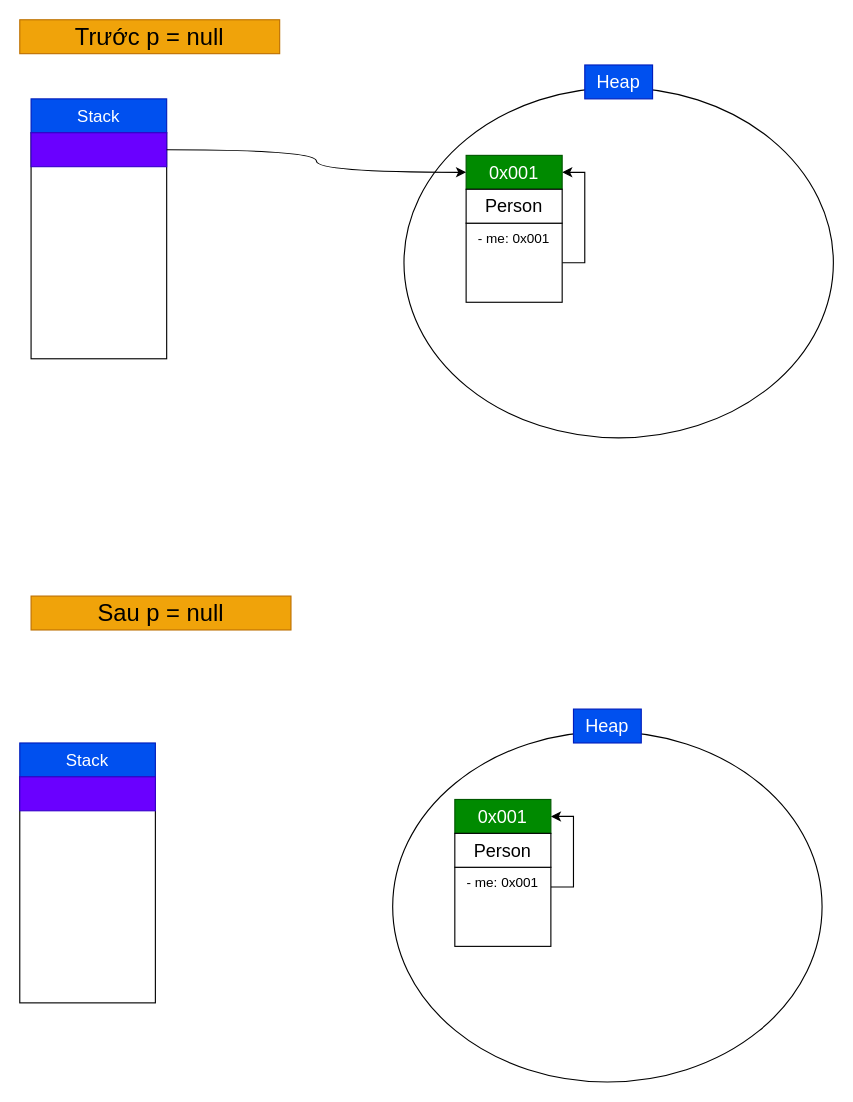
This 853x1102 diagram has some shape labels left out. The shapes that lost their labels are listed below. From the top down, each one's box as (x1, y1, x2, y2) in pixels, then its label:
(30, 132, 167, 167): p = 0x001
(19, 776, 155, 811): p = null
